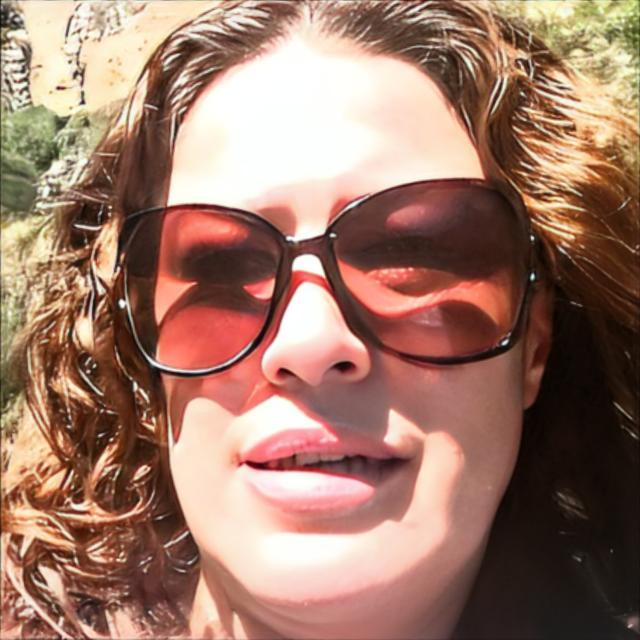disgust: (148, 21, 528, 626)
